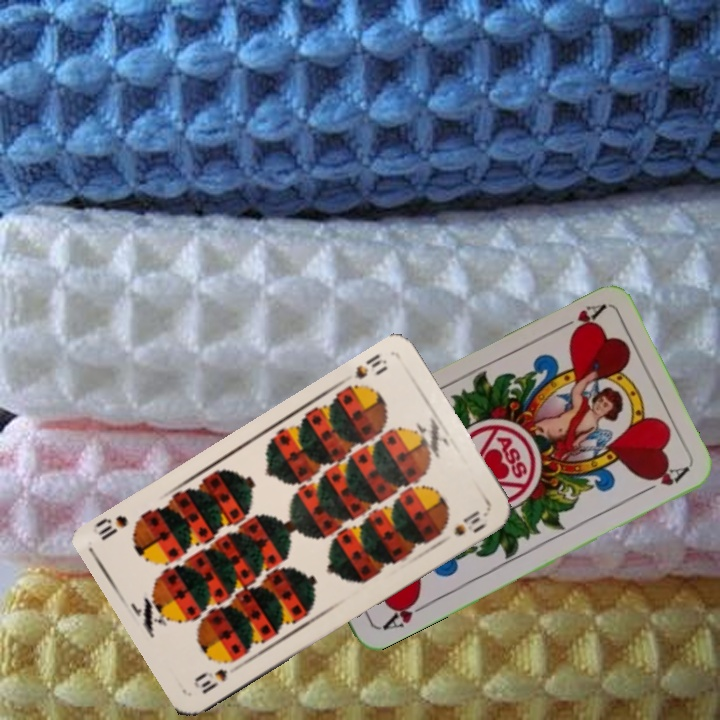HA: (378, 592, 432, 633), (552, 299, 608, 338)
S10: (190, 660, 245, 697), (351, 349, 391, 382)
